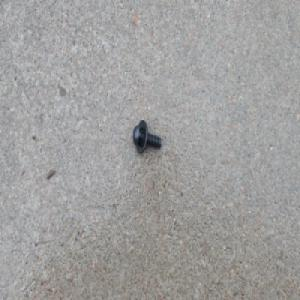BoltWasher: (132, 119, 162, 154)
